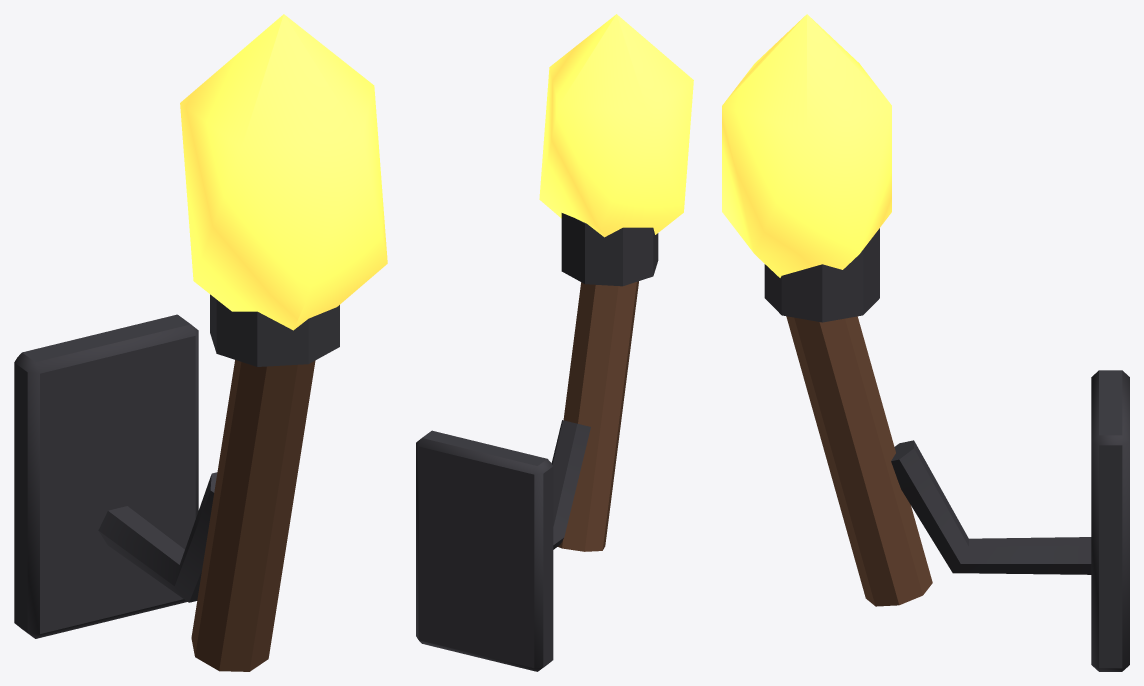
The model's file is tide_torch.glb.
3 renders of one model, left to right at view 1: azimuth 30°, elevation 25°; view 2: azimuth 150°, elevation 25°; view 3: azimuth 270°, elevation 25°, orthographic. The views are drawn at different scales.
Parts seen in each view (by area): view 1: tide_torch; view 2: tide_torch; view 3: tide_torch.
Boxes of the visible parts, x1=… form: tide_torch: x1=14, y1=14, x2=387, y2=671; tide_torch: x1=416, y1=14, x2=693, y2=671; tide_torch: x1=722, y1=14, x2=1129, y2=671.
Size of the model in its own units: 0.2326 by 0.898 by 0.5306.
